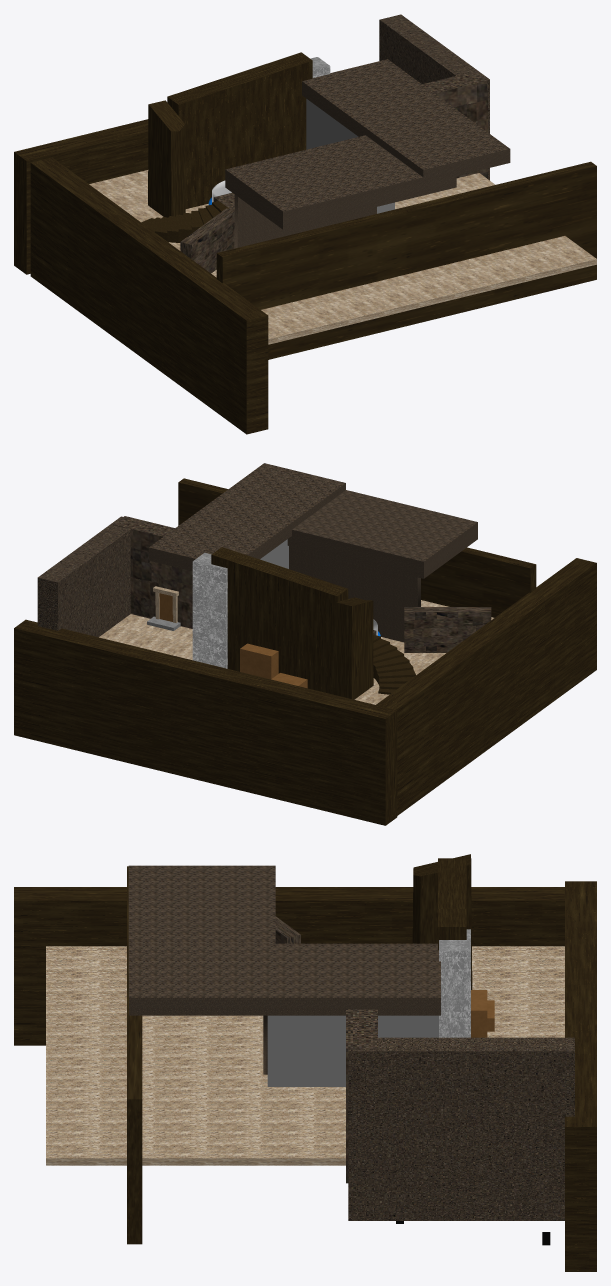
File: teleporter_level_02.glb
The picture shows the model from 3 angles, top to bottom: view 1: azimuth 30°, elevation 25°; view 2: azimuth 150°, elevation 25°; view 3: azimuth 270°, elevation 25°; orthographic projection. The views are drawn at different scales.
Visible parts, largest first — view 1: cardboard_boxes; view 2: cardboard_boxes; view 3: cardboard_boxes.
Boxes of the visible parts, x1,y1,x2,y2 form: cardboard_boxes: (14,14,596,434); cardboard_boxes: (14,463,596,825); cardboard_boxes: (14,854,596,1271).
Size of the model in its own units: 36.74 by 18.34 by 36.51.
Materials: 17 (11 with a texture image).
